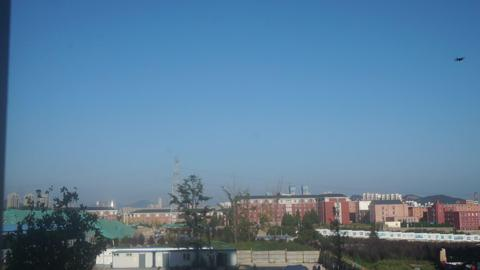UAV: (454, 57, 465, 62)
